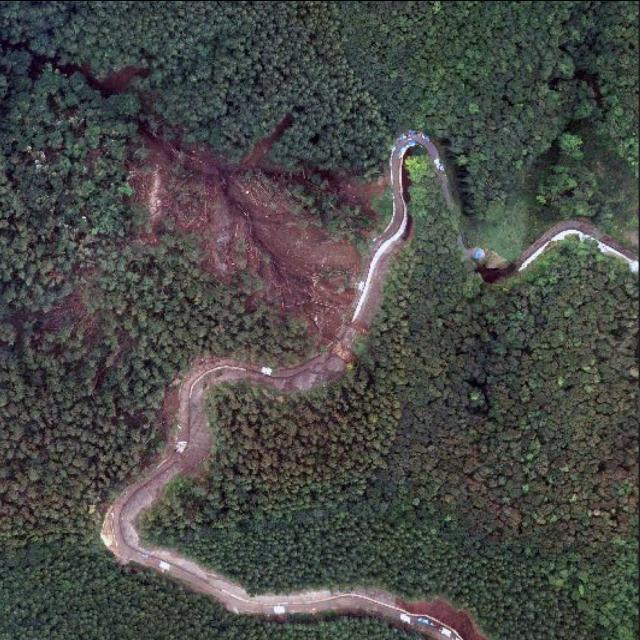landslide: (129, 116, 384, 340)
